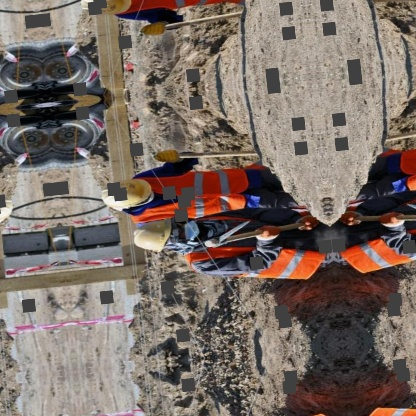vest: (176, 204, 327, 295), (122, 165, 250, 230)
yellow: (124, 215, 180, 261), (95, 177, 154, 214)
